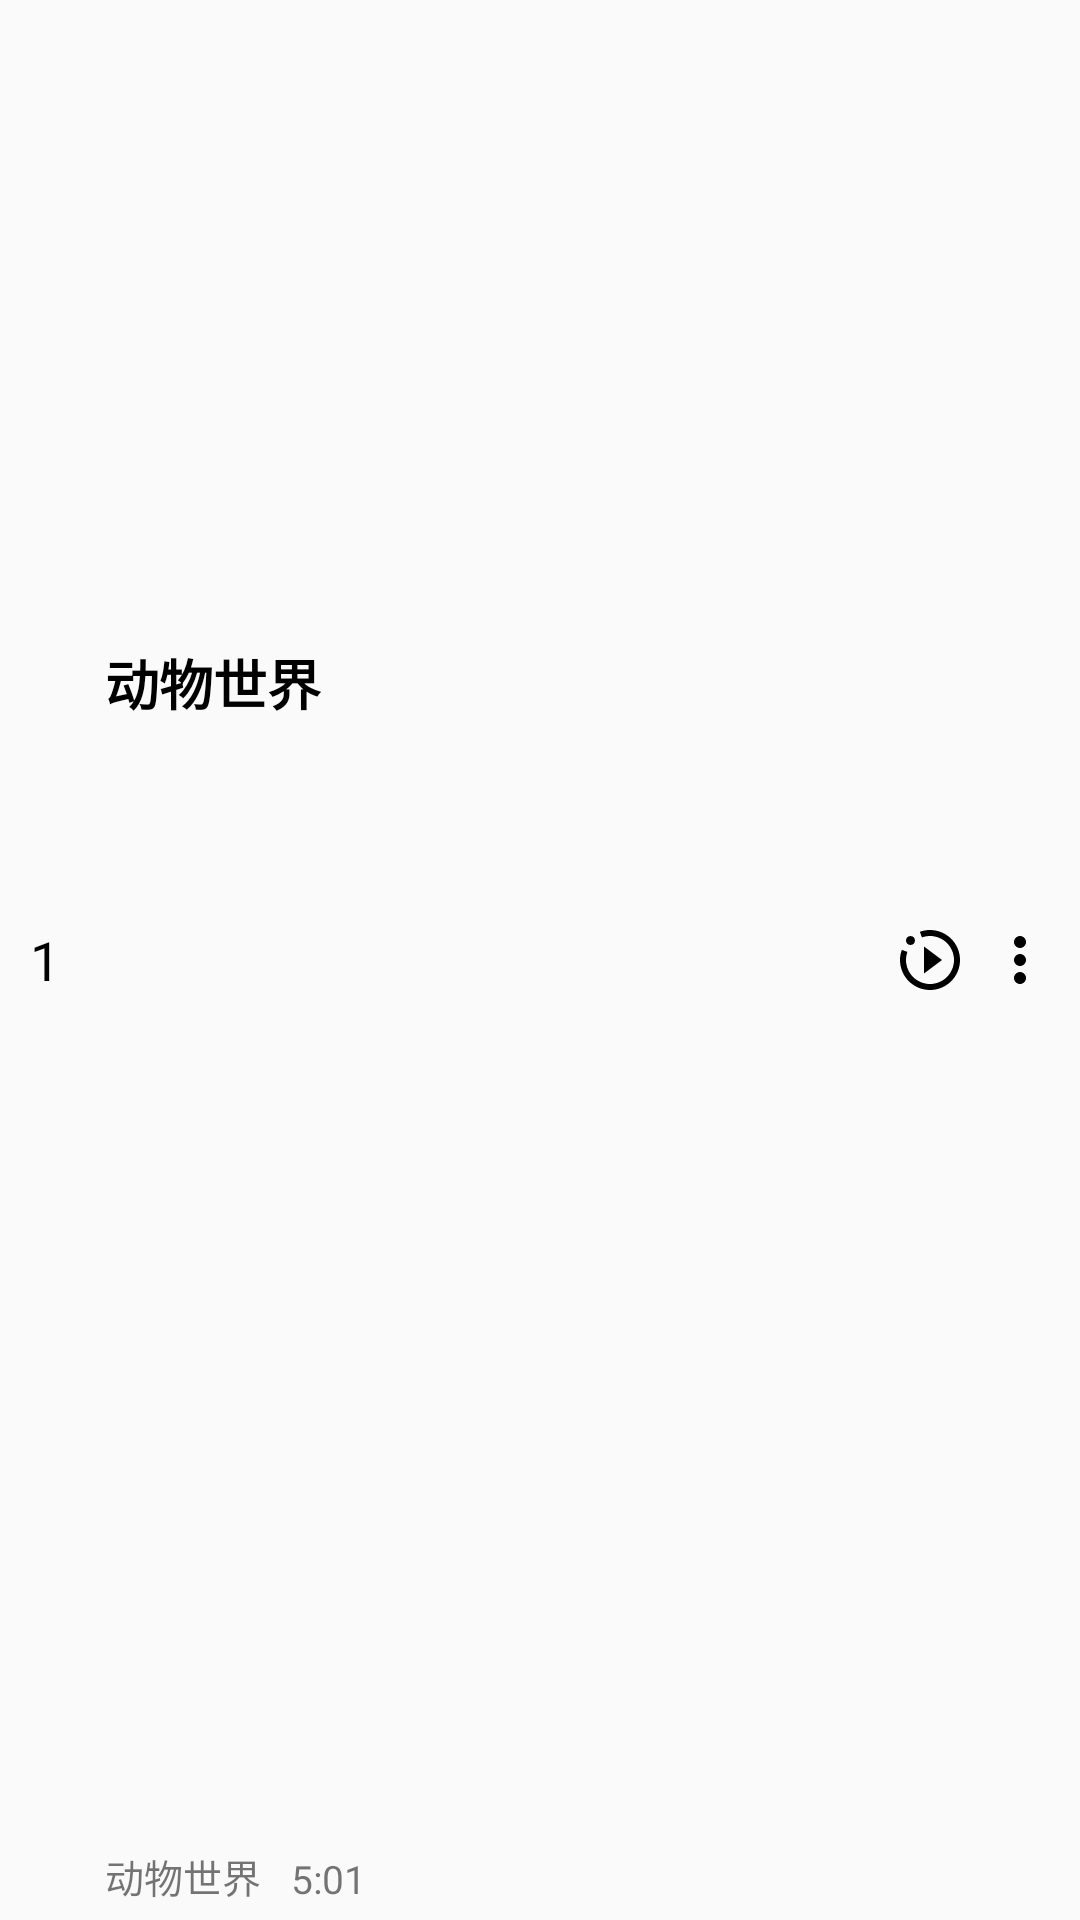

Icons on this 1080x1920 Android screen, each with the point to tap as [x,y]:
content listen: [930,960]
content menu: [1020,960]
